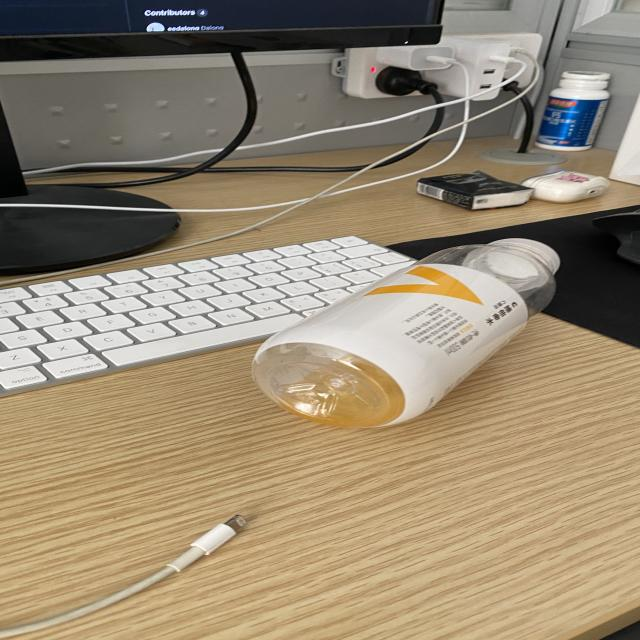Anorganik: (270, 224, 558, 434)
